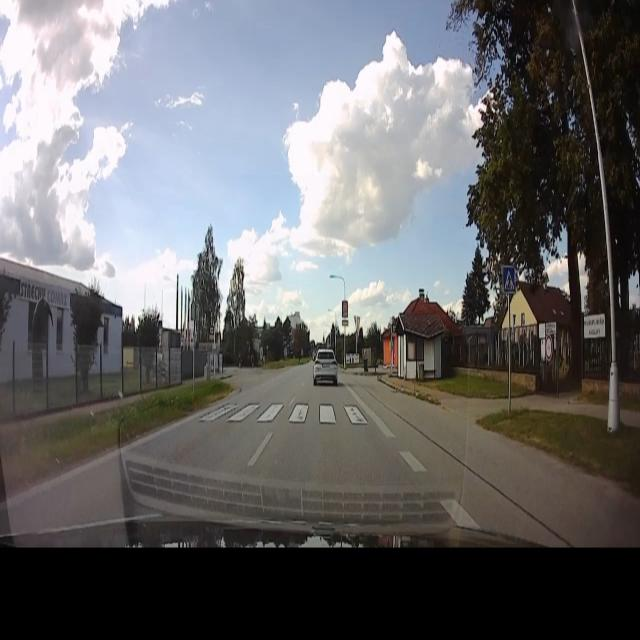Pedestrian crosswalk: (197, 399, 373, 430), (500, 260, 517, 296)
